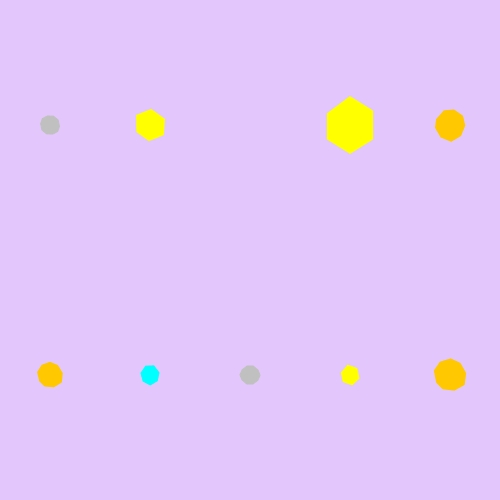decagon: (35, 111, 65, 139), (235, 361, 265, 389)
heptagon: (136, 361, 165, 389)
hexagon: (318, 99, 382, 152), (129, 108, 171, 143), (335, 362, 365, 388)
nonagon: (430, 355, 471, 395), (430, 106, 470, 144), (33, 359, 68, 392)
